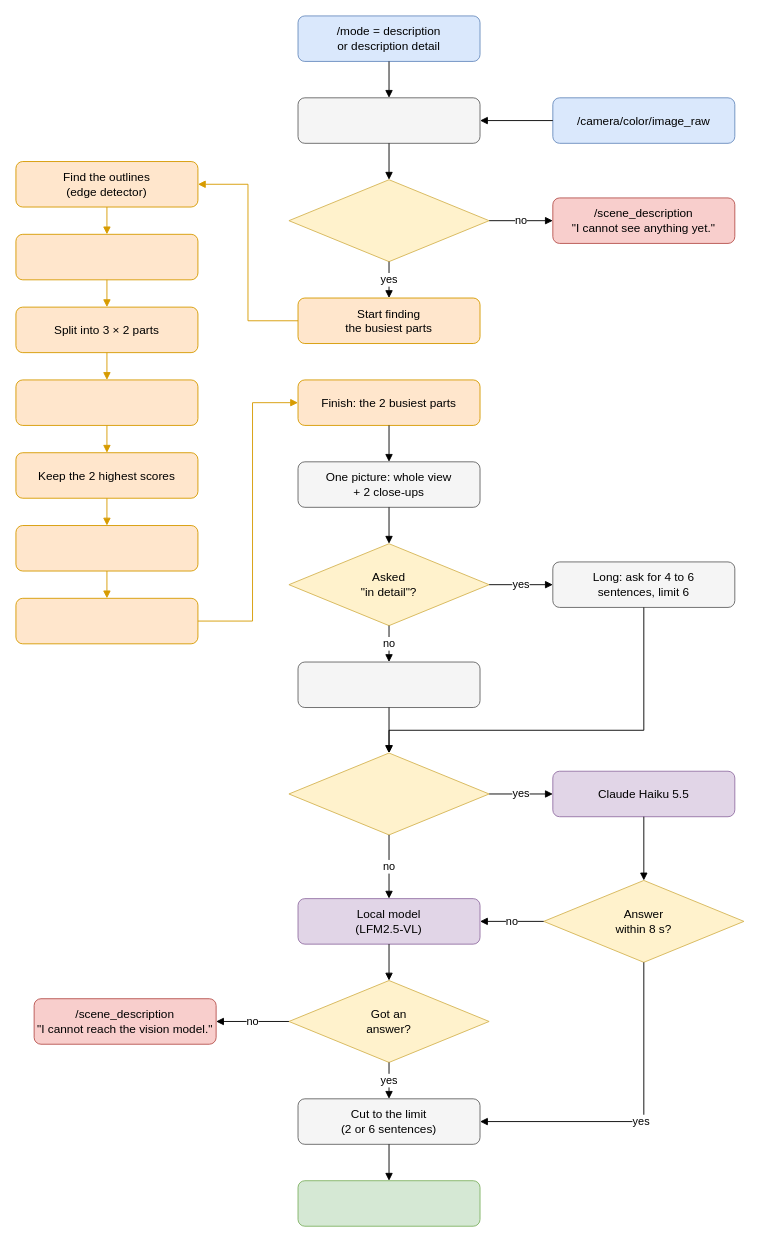
This 760x1242 diagram has some shape labels left out. Here are the shapes that lost their labels. From the top down, the centre of each, then its label:
At (388,120): "Take the latest frame".
At (388,220): "Got a frame?".
At (106,256): "Separate colour from brightness".
At (106,402): "Score each part: outlines + colour variety".
At (106,548): "Cut them out, a sixth wider on each side".
At (106,620): "Label where each is (left / ahead / right)".
At (388,684): "Short: ask for 1 or 2 sentences (25 words), limit 2".
At (388,793): "API key and online?".
At (388,1203): "/scene_description".
